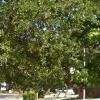Tree: (6, 6, 100, 81)
